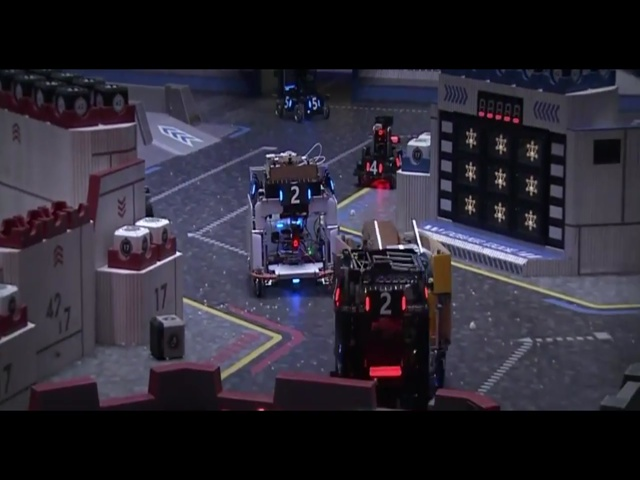plate: (359, 289, 409, 316), (275, 186, 314, 204), (363, 157, 386, 183), (303, 92, 323, 114), (389, 151, 406, 172), (280, 95, 294, 115)
